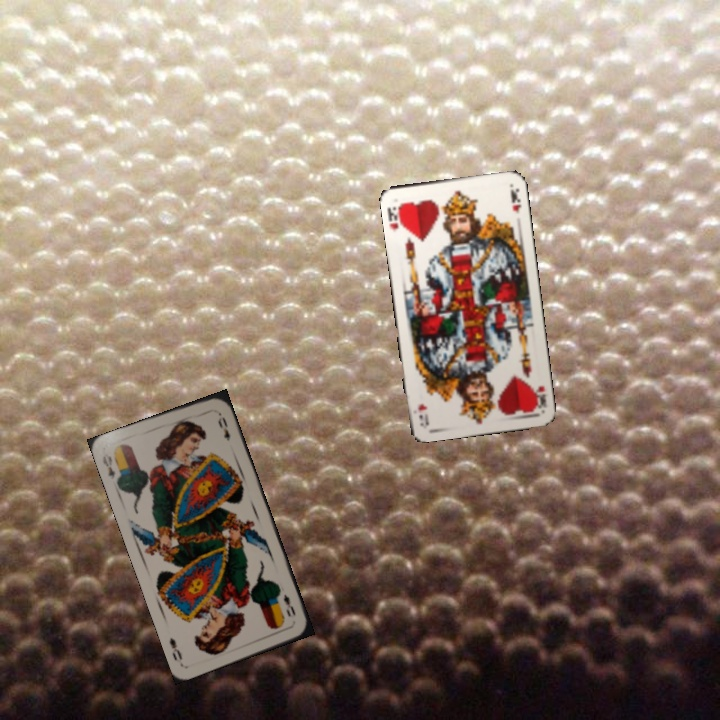EO: (98, 449, 118, 482), (279, 590, 298, 619)
HK: (384, 200, 406, 233), (528, 382, 549, 411)
